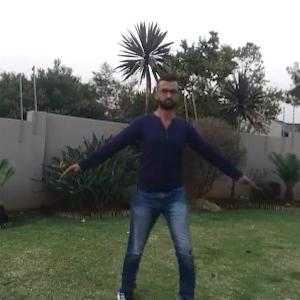land: (87, 92, 217, 252)
